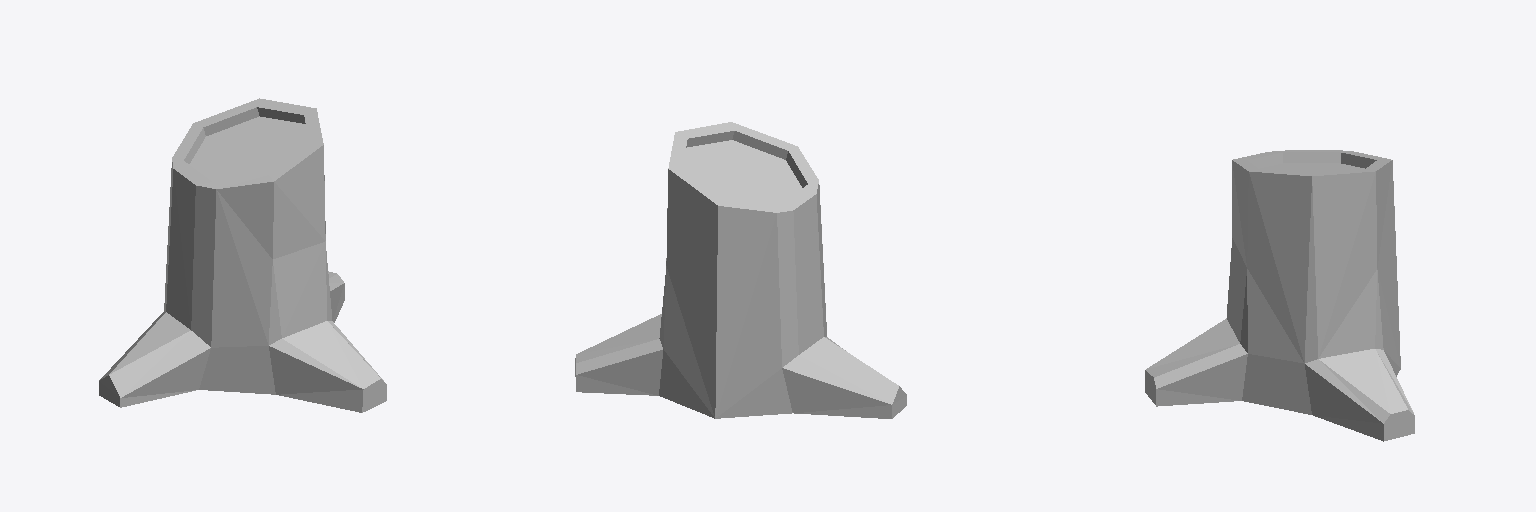
File: rock1.obj
The picture shows the model from 3 angles: view 1: azimuth 30°, elevation 25°; view 2: azimuth 150°, elevation 25°; view 3: azimuth 270°, elevation 25°; orthographic projection.
Visible parts, largest first — view 1: _12_tree; view 2: _12_tree; view 3: _12_tree.
Part boxes in pixels (left/top/right/bottom): _12_tree: left=99, top=98, right=386, bottom=412; _12_tree: left=575, top=122, right=906, bottom=418; _12_tree: left=1145, top=150, right=1414, bottom=441.
Bounding box in the file's own units: 0.4567 × 0.3631 × 0.3804.